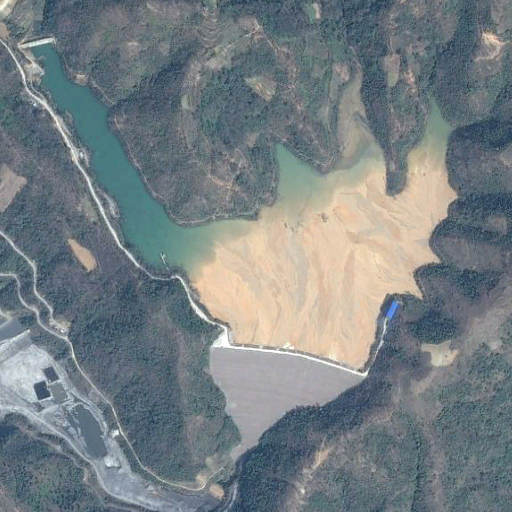tp: (17, 38, 461, 465)
